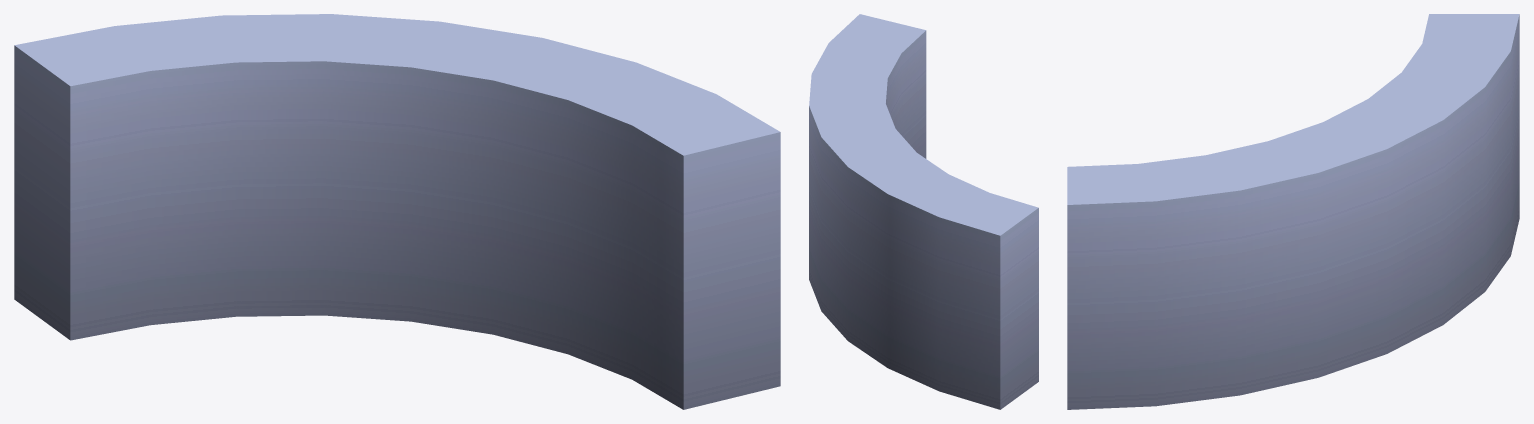
Rendered from wall-round-low.glb.
3 views of the same model, side by side, from view 1: azimuth 30°, elevation 25°; view 2: azimuth 150°, elevation 25°; view 3: azimuth 270°, elevation 25° (orthographic). The views are drawn at different scales.
Parts seen in each view (by area): view 1: wall-round-low; view 2: wall-round-low; view 3: wall-round-low.
Boxes of the visible parts, x1,y1,x2,y2 form: wall-round-low: (14, 14, 780, 409); wall-round-low: (809, 14, 1038, 409); wall-round-low: (1067, 14, 1519, 409).
Bounding box in the file's own units: 1 × 0.5001 × 1.
Materials: 1 (1 with a texture image).
